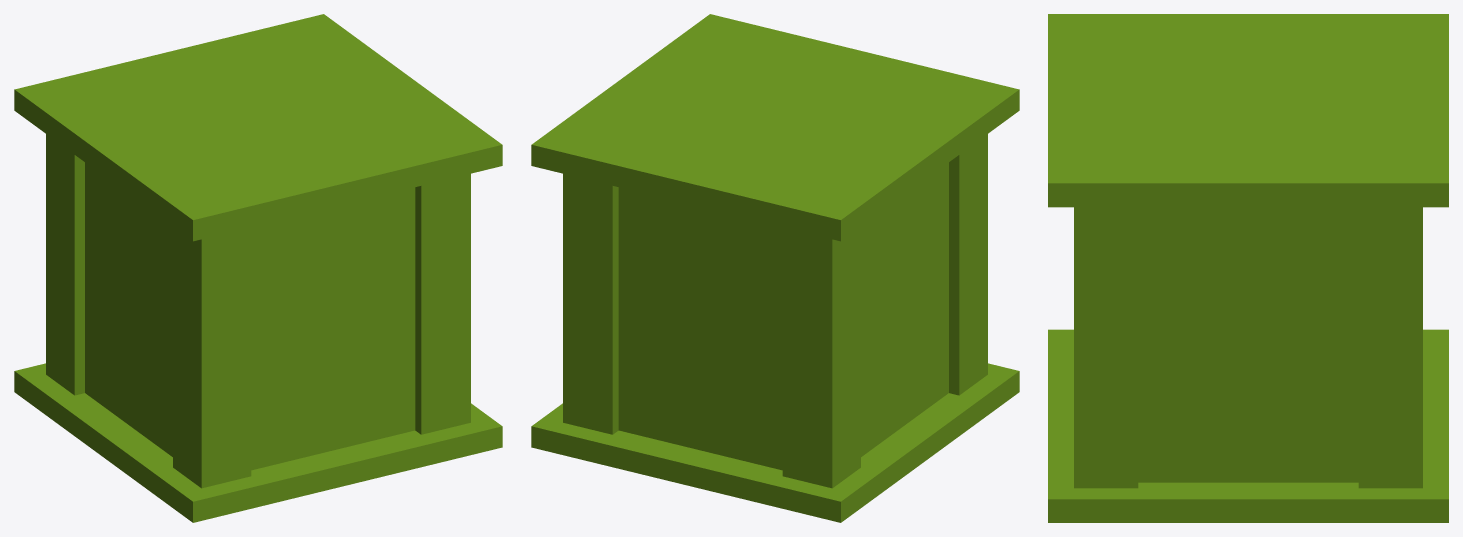
The picture shows the model from 3 angles, left to right: view 1: azimuth 30°, elevation 25°; view 2: azimuth 150°, elevation 25°; view 3: azimuth 270°, elevation 25°; orthographic projection. The views are drawn at different scales.
Parts seen in each view (by area): view 1: Box; view 2: Box; view 3: Box.
Boxes of the visible parts, x1,y1,x2,y2 form: Box: (14, 14, 502, 522); Box: (531, 14, 1019, 522); Box: (1048, 14, 1448, 522).
Bounding box in the file's own units: 51.65 × 48.29 × 51.65.
